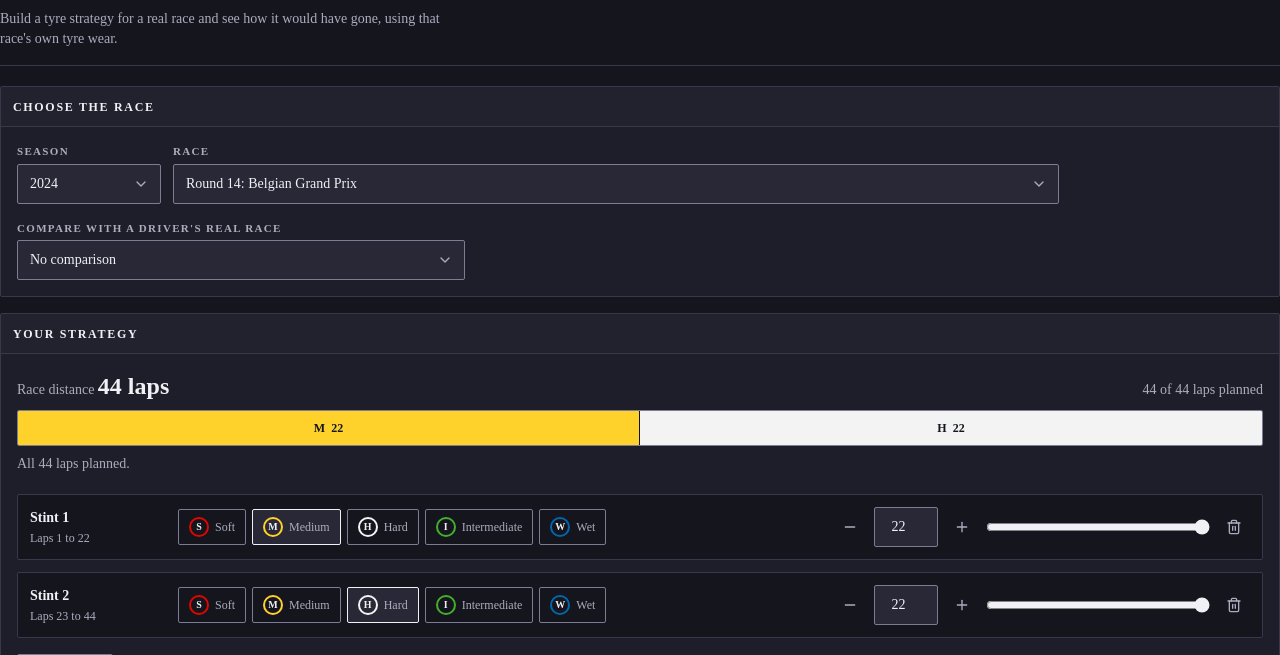
StrategyTool › loads a driver's real strategy into the planner
Select "HAM Lewis Hamilton" in the dropdown labelled "Compare with a driver's real race" at (241, 260), box [17, 240, 465, 280]
(page scrolled)
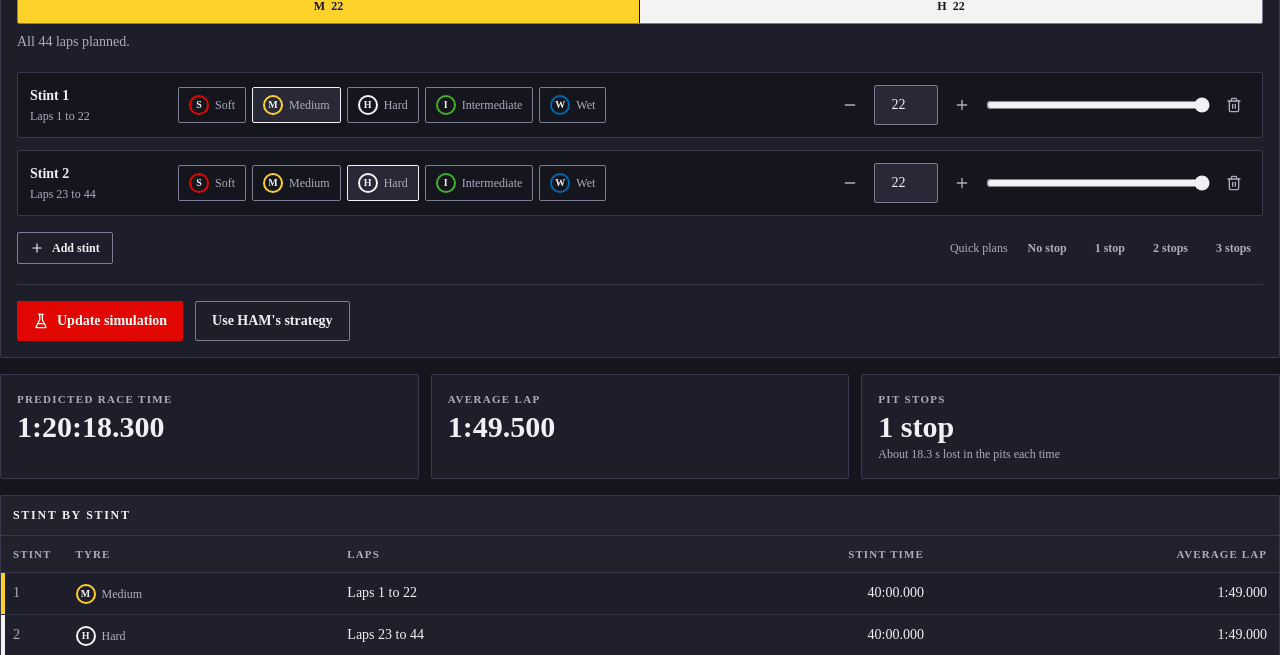
Click the button "Use HAM's strategy".
click(272, 321)  # box [195, 301, 350, 341]
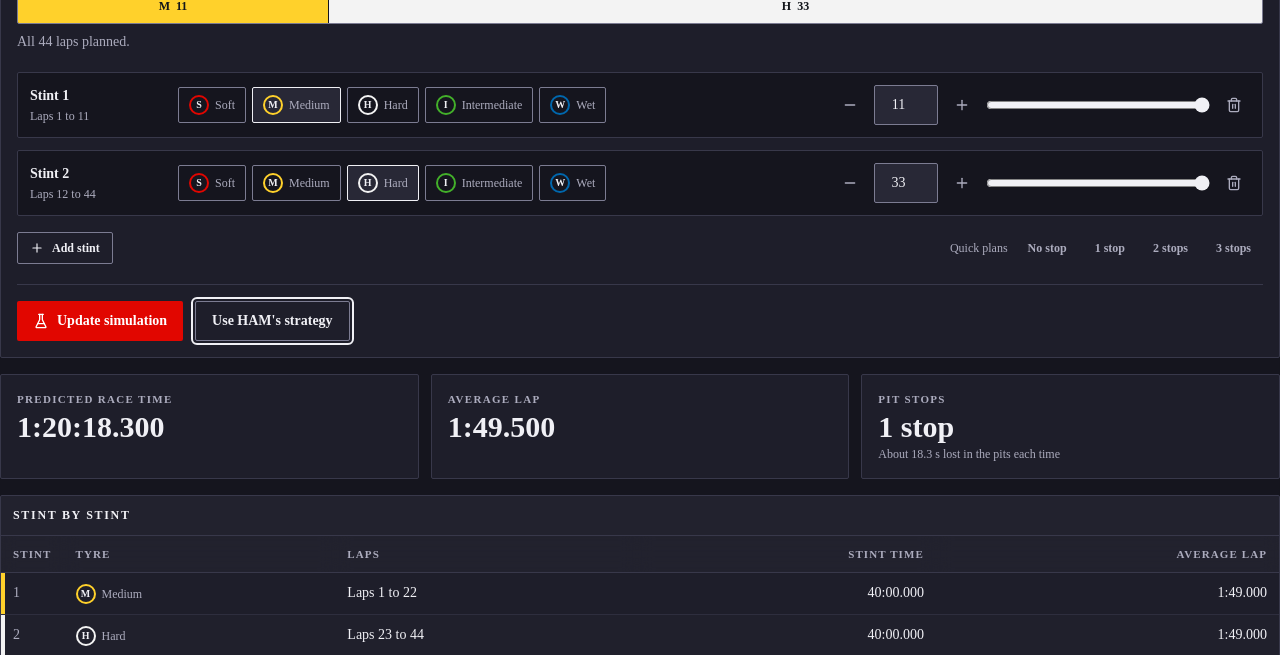
Check: the number field named "Stint 1 laps" holds "11", box [874, 85, 938, 125]
Check: the number field named "Stint 2 laps" holds "33", box [874, 163, 938, 203]
